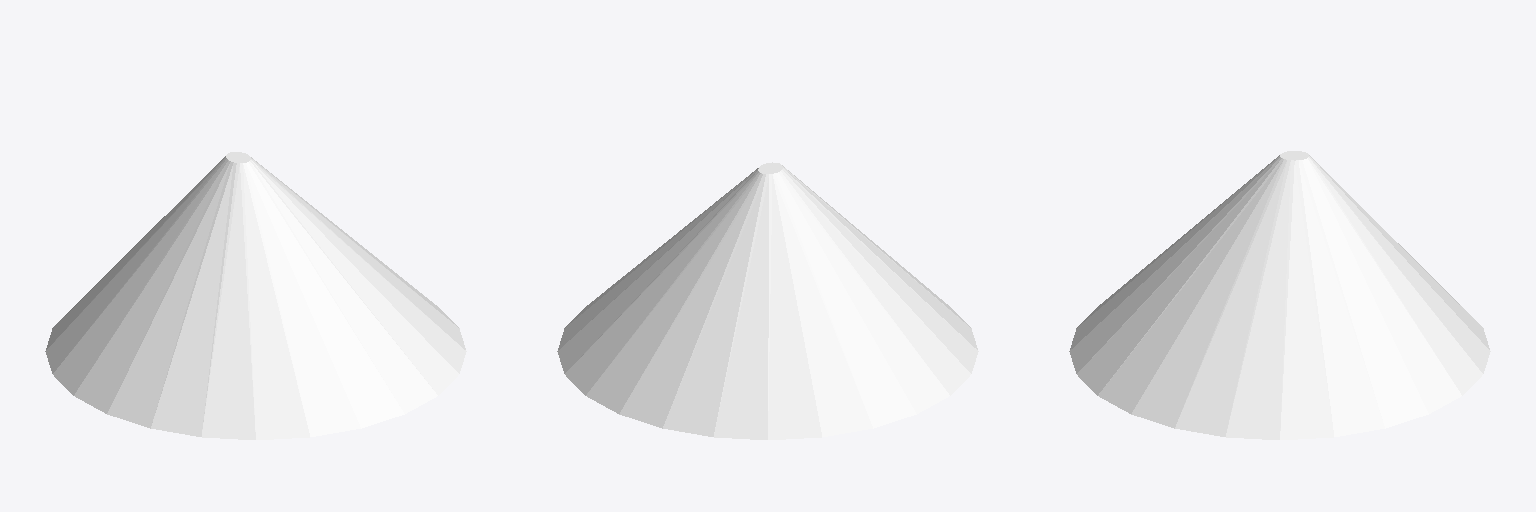
The model's file is conic.obj.
3 renders of one model, left to right at view 1: azimuth 30°, elevation 25°; view 2: azimuth 150°, elevation 25°; view 3: azimuth 270°, elevation 25°, orthographic.
Visible parts, largest first — view 1: Mesh2 Model; view 2: Mesh2 Model; view 3: Mesh2 Model.
Part boxes in pixels (left/top/right/bottom): Mesh2 Model: left=45, top=152, right=466, bottom=439; Mesh2 Model: left=557, top=162, right=978, bottom=439; Mesh2 Model: left=1069, top=151, right=1490, bottom=439.
Bounding box in the file's own units: 20 × 10 × 20.